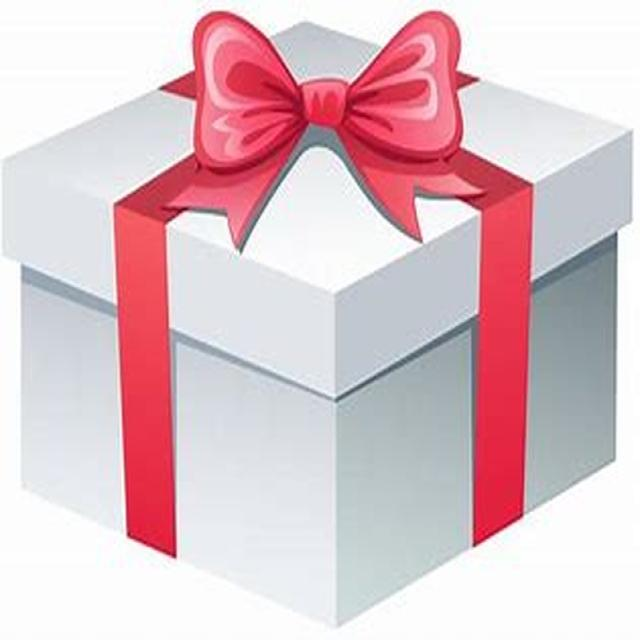box: (48, 39, 614, 616)
